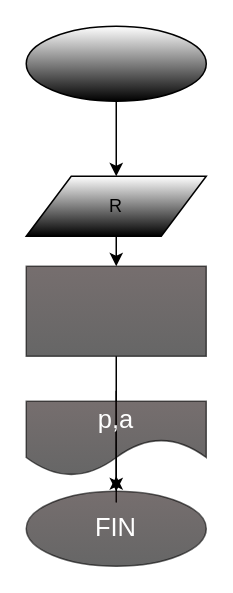
Some shapes in this 233 by 593 pixel diagram are drawn without their labels. The shapes that lost their labels are listed below. From the top down, each one's centre as x and y in pixels, then its label:
At point 115,63: "INICIO".
At point 115,310: "P= 2 π A= πr 2".
